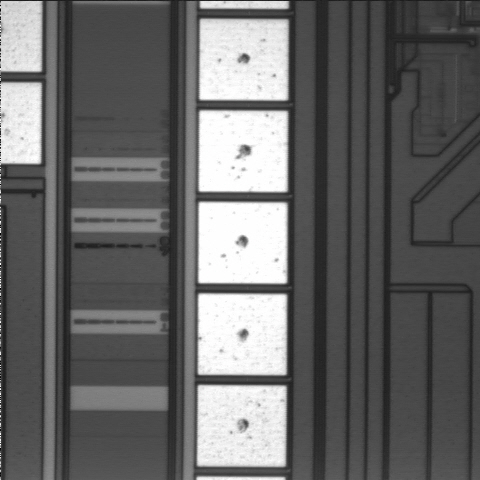pad: (199, 110, 288, 192), (198, 202, 287, 284), (197, 385, 286, 467), (199, 19, 288, 100), (198, 294, 287, 375)
